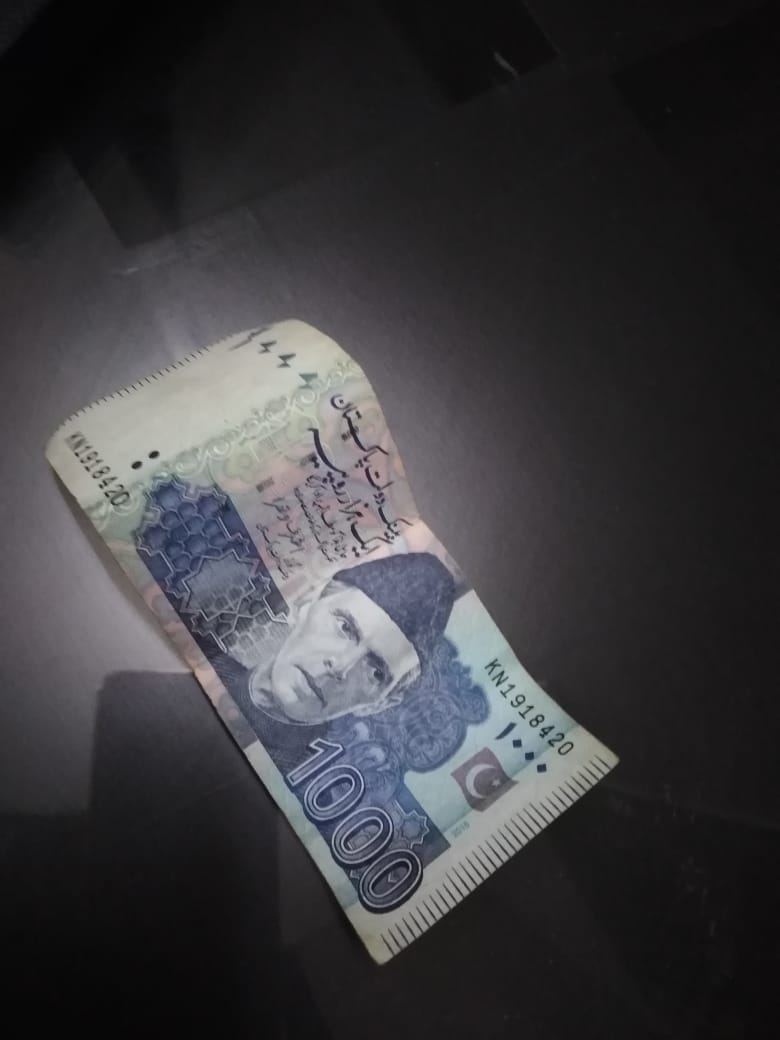1000 rupee: (36, 294, 649, 982)
